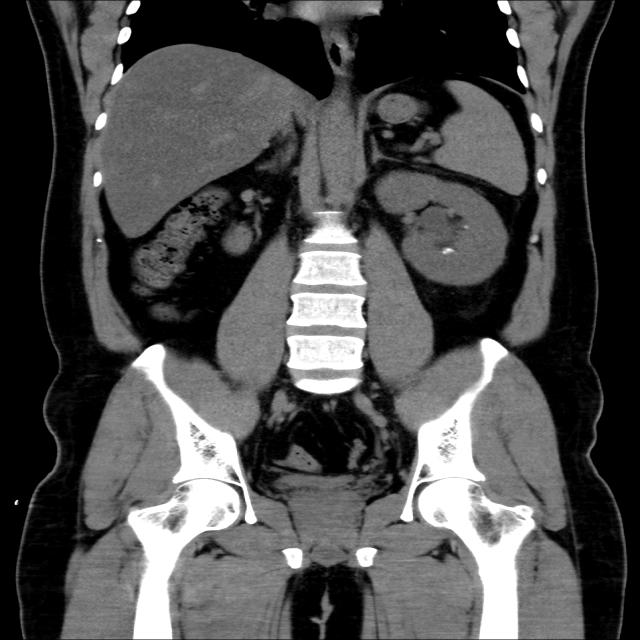kidneystone: (440, 246, 457, 254), (444, 241, 454, 245)
